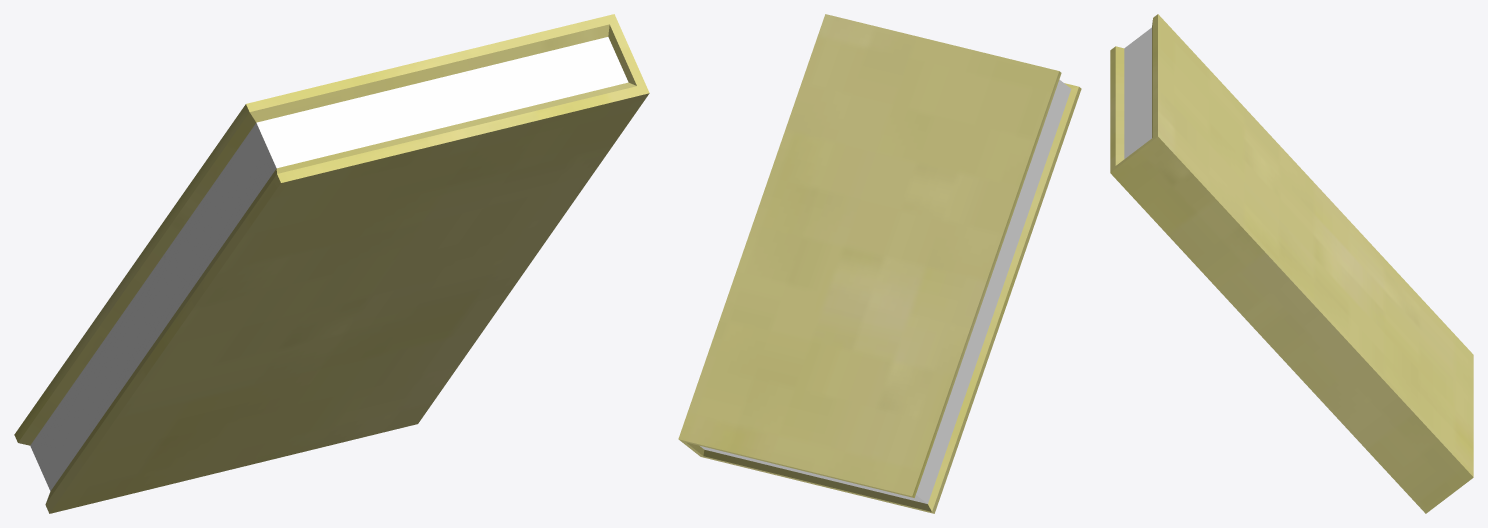
Rendered from buku.FBX.
3 renders of one model, left to right at view 1: azimuth 30°, elevation 25°; view 2: azimuth 150°, elevation 25°; view 3: azimuth 270°, elevation 25°, orthographic. The views are drawn at different scales.
Visible parts, largest first — view 1: Box023; view 2: Box023; view 3: Box023.
Boxes of the visible parts, x1=… form: Box023: x1=14, y1=14, x2=649, y2=513; Box023: x1=678, y1=14, x2=1081, y2=513; Box023: x1=1110, y1=14, x2=1473, y2=513.
Bounding box in the file's own units: 2.9 × 4.16 × 3.63.
1 material, 1 textured.
